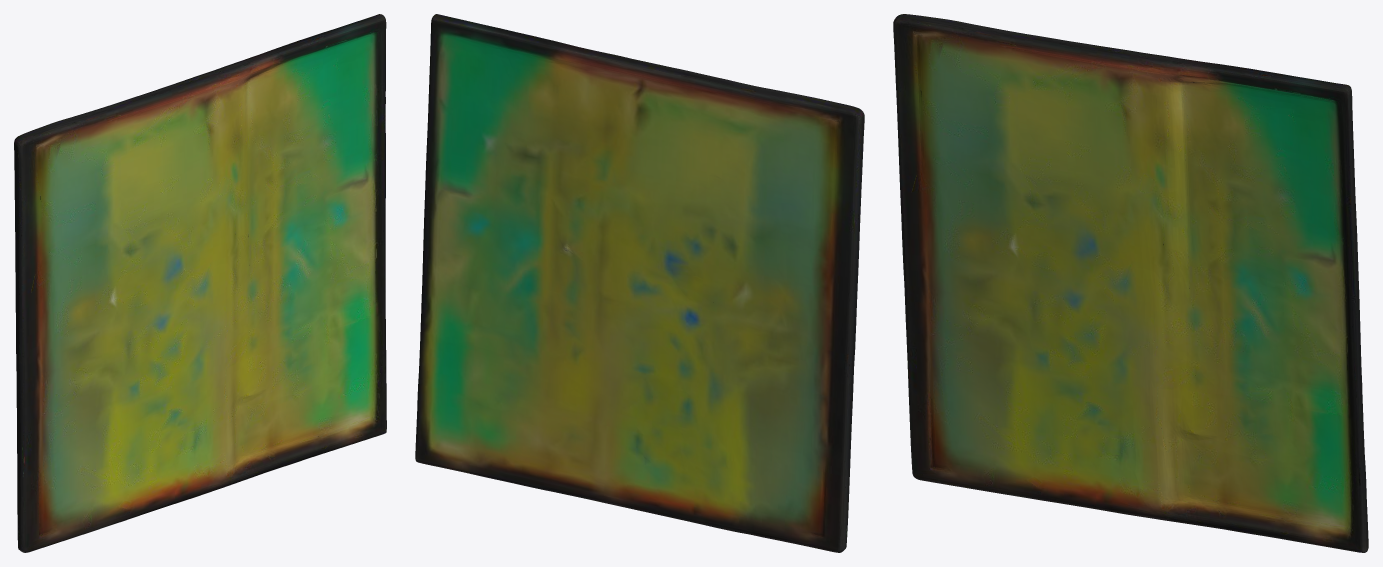
The model's file is framed_yellow_and_green_painting_on_wall_000.glb.
The picture shows the model from 3 angles, left to right: view 1: azimuth 30°, elevation 25°; view 2: azimuth 150°, elevation 25°; view 3: azimuth 330°, elevation 25°; orthographic projection. The views are drawn at different scales.
Parts seen in each view (by area): view 1: framed_yellow_and_green_painting_on_wall_000.obj; view 2: framed_yellow_and_green_painting_on_wall_000.obj; view 3: framed_yellow_and_green_painting_on_wall_000.obj.
Boxes of the visible parts, x1,y1,x2,y2 form: framed_yellow_and_green_painting_on_wall_000.obj: (14, 14, 386, 552); framed_yellow_and_green_painting_on_wall_000.obj: (415, 14, 864, 552); framed_yellow_and_green_painting_on_wall_000.obj: (893, 14, 1368, 552).
Bounding box in the file's own units: 0.2837 × 0.2955 × 0.0431.
1 material, 1 textured.
